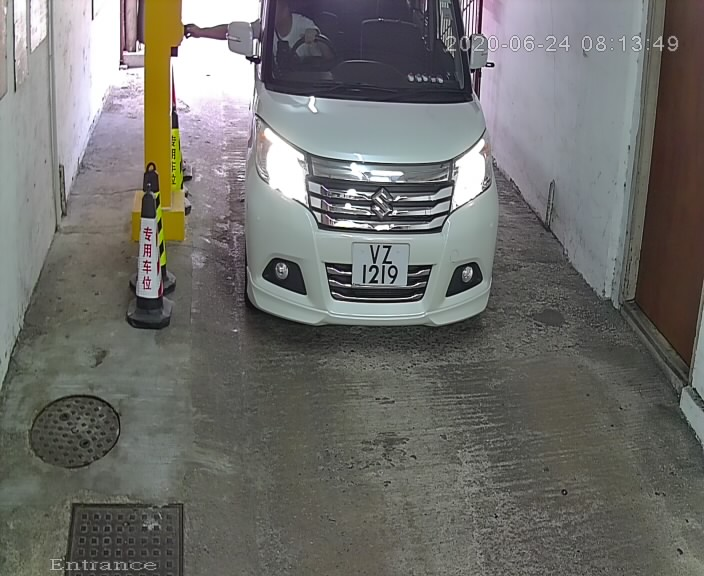privatecar: (219, 1, 512, 342)
